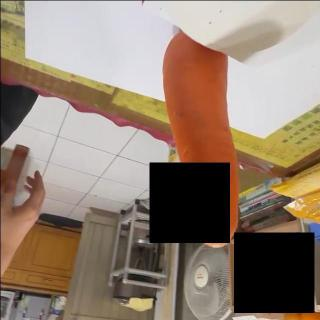carrot: (162, 31, 238, 247)
